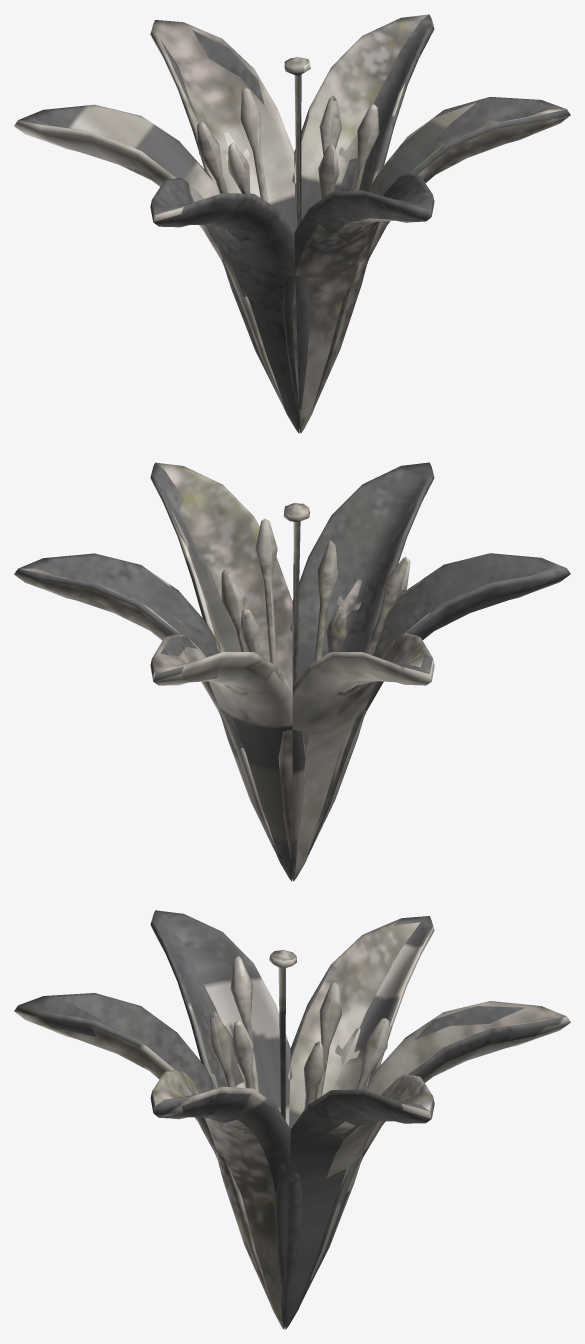
File: Yuri1.fbx
3 renders of one model, top to bottom at view 1: azimuth 30°, elevation 25°; view 2: azimuth 150°, elevation 25°; view 3: azimuth 270°, elevation 25°, orthographic.
Visible parts, largest first — view 1: Yuri.001; view 2: Yuri.001; view 3: Yuri.001.
Part boxes in pixels (left/top/right/bottom): Yuri.001: left=14, top=14, right=570, bottom=433; Yuri.001: left=14, top=462, right=570, bottom=881; Yuri.001: left=14, top=910, right=570, bottom=1329.
Bounding box in the file's own units: 1201 × 1037 × 1387.
